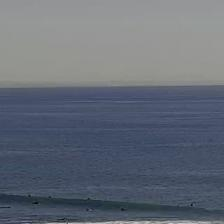surfer: (56, 217, 66, 221), (0, 206, 11, 209), (84, 208, 90, 211), (34, 201, 38, 205), (28, 194, 32, 197), (121, 208, 125, 211), (48, 196, 52, 199), (88, 197, 90, 200), (177, 205, 180, 207), (190, 204, 193, 206), (61, 223, 70, 223)
